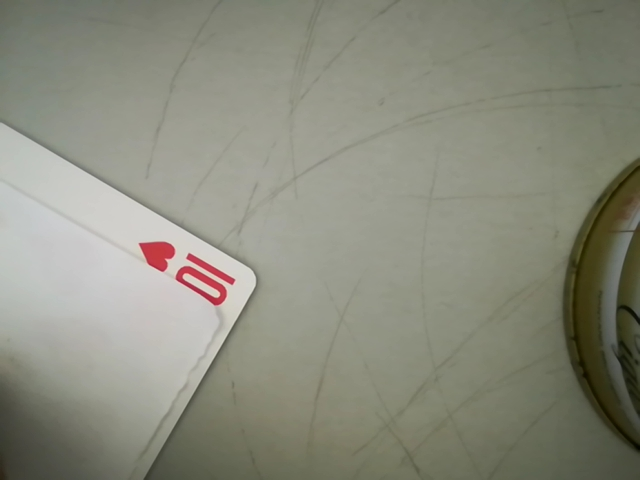hx 10: (126, 234, 251, 315)
